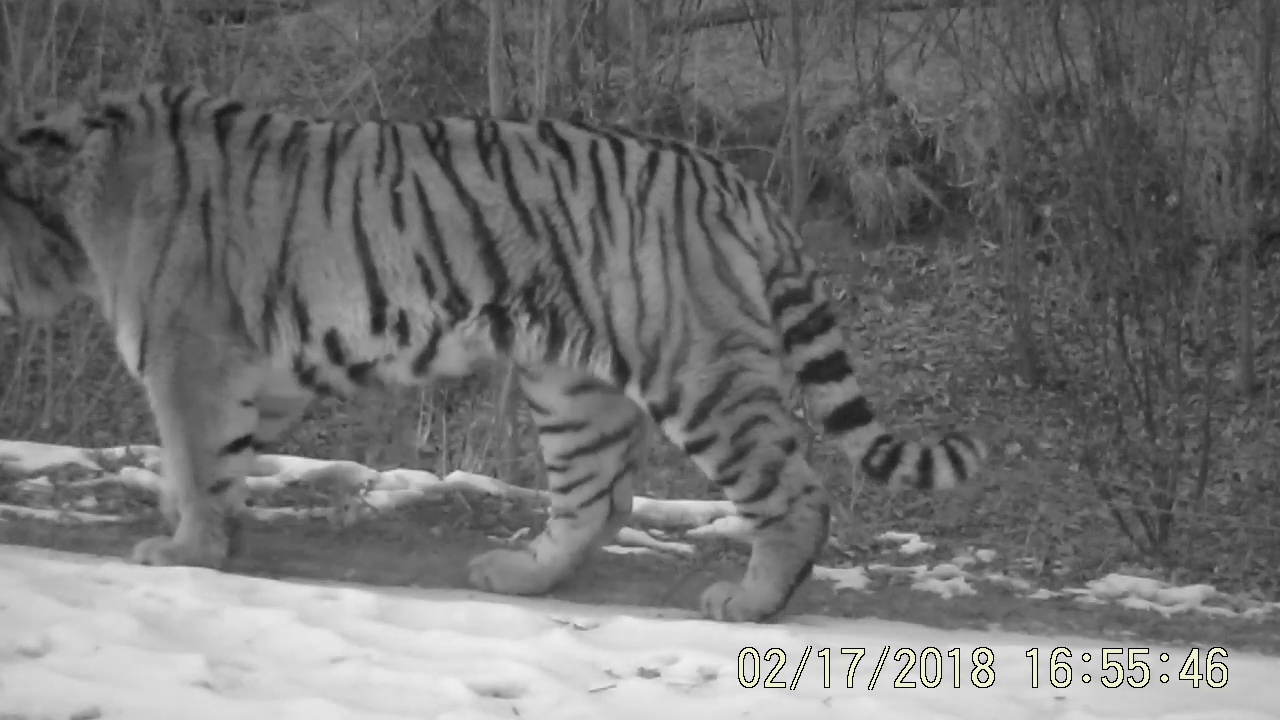Tiger: (4, 60, 1028, 639)
